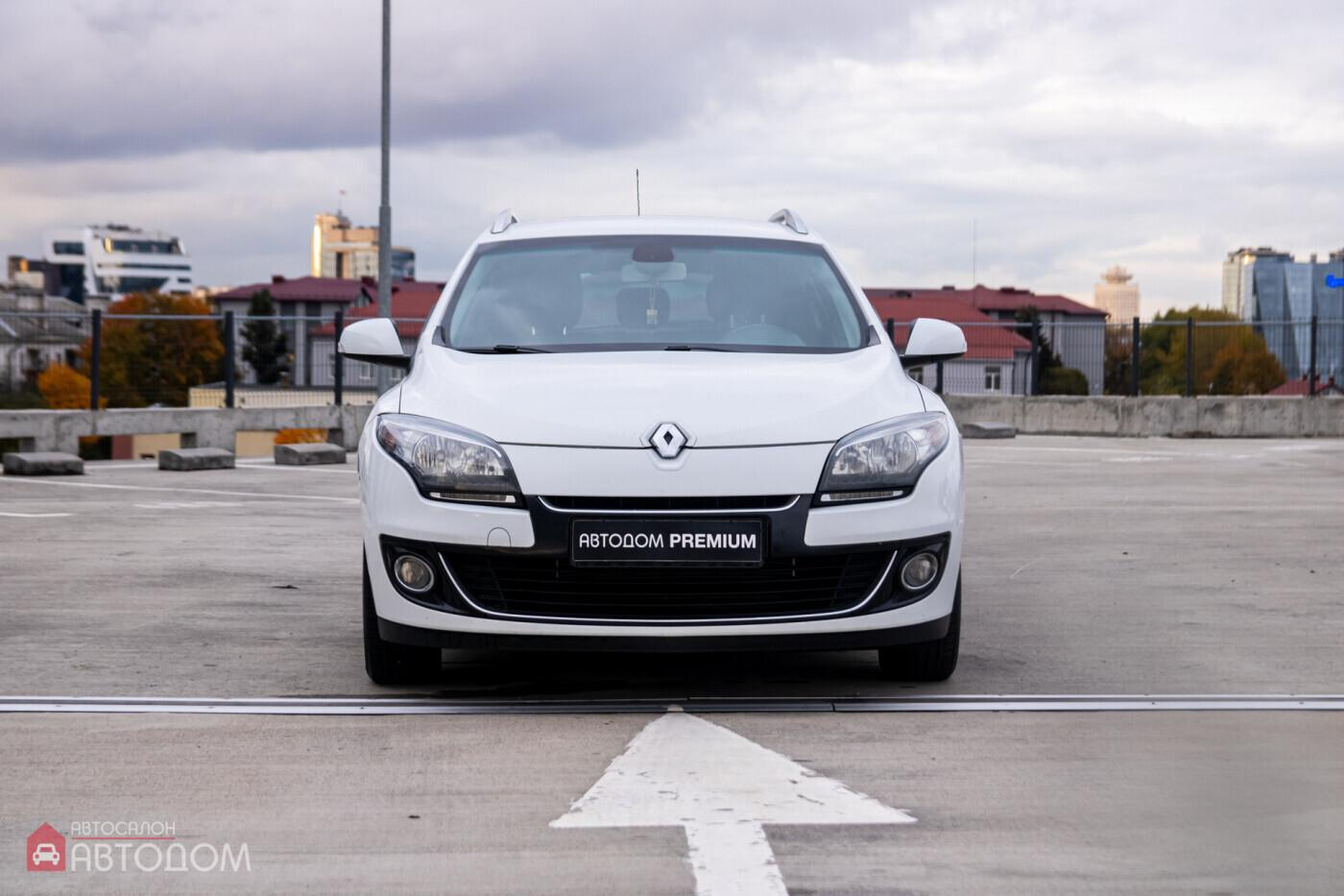Megane_2012-2014: (350, 216, 971, 676)
